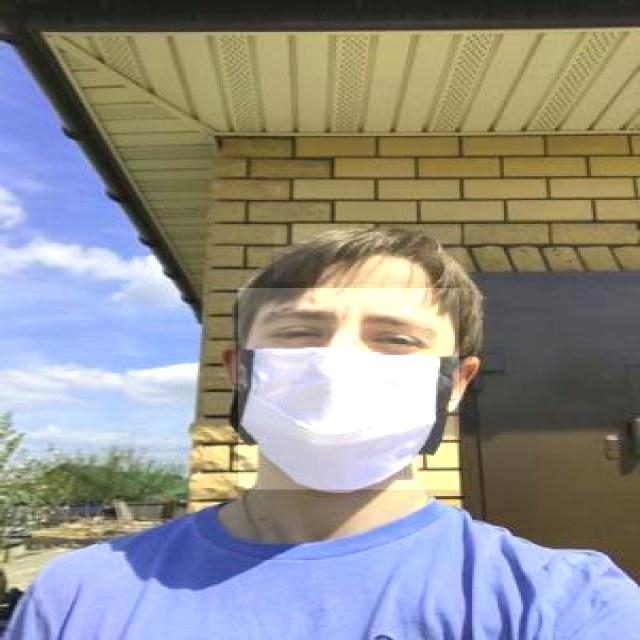face_mask: (236, 288, 459, 491)
head_nohelmet: (272, 227, 466, 283)
